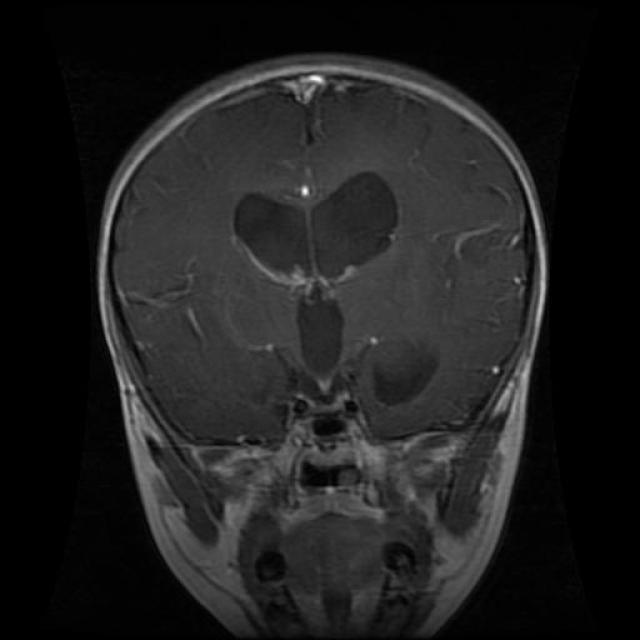glioma: (236, 170, 399, 291)
